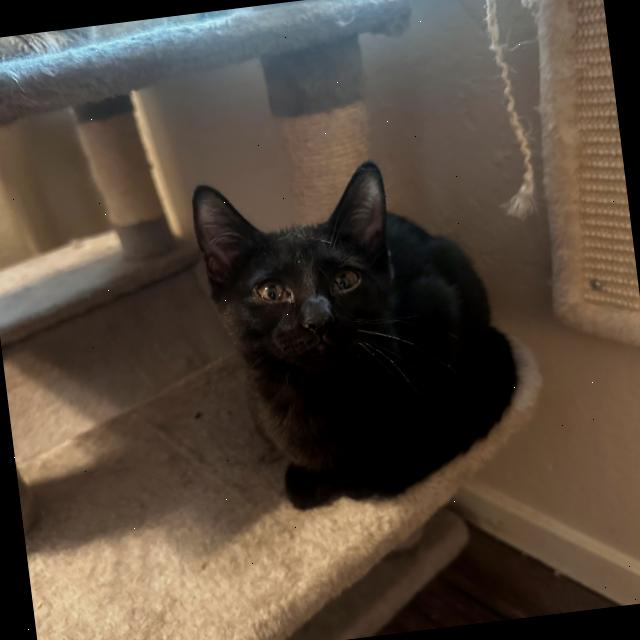bombay_cat: (184, 154, 420, 399)
